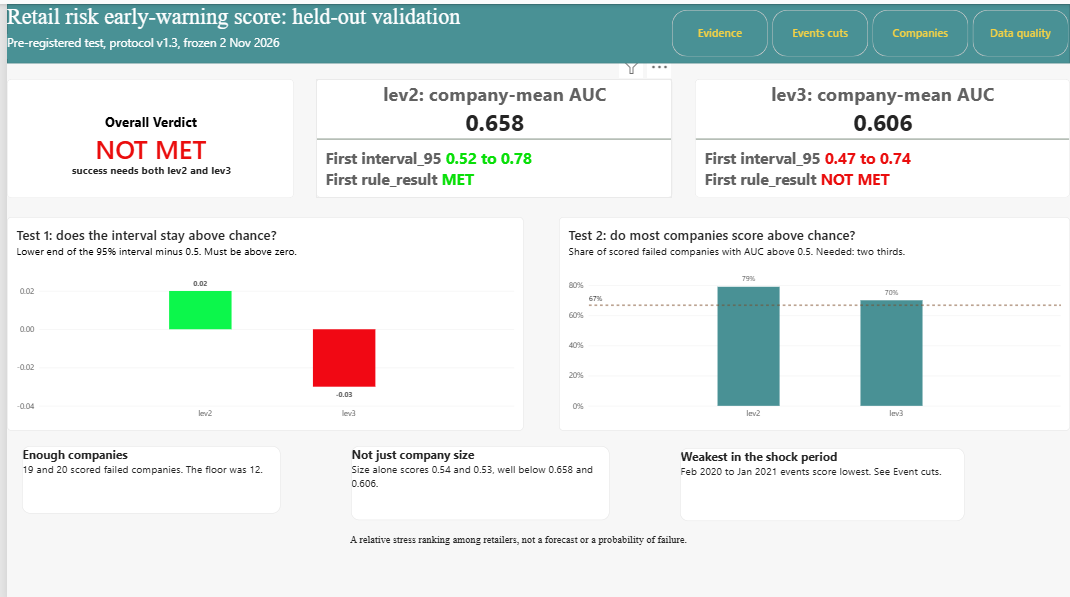

What the dashboard file says about the page in this screenshot:
{"tool":"powerbi","page":{"name":"Verdict","canvas":[1920,1080],"ordinal":0},"visuals":[{"type":"cardVisual","fields":{"Data":["Avg(retail_risk v_verdict.company_mean_auc)"]},"box":[557.4,136.3,644.1,214.7],"z":2000},{"type":"cardVisual","fields":{"Data":["Avg(retail_risk v_verdict.company_mean_auc)"]},"box":[1242.8,136.3,677.2,214.7],"z":3000},{"type":"shape","box":[0,0,1920,107.4],"z":3001},{"type":"textbox","box":[0,53.7,518.2,45.4],"z":3002},{"type":"pageNavigator","box":[1201.5,10.3,718.5,84.6],"z":3003},{"type":"cardVisual","fields":{"Data":["retail_risk v_company_events.Overall short"]},"box":[0,136.3,518,215],"z":3004},{"type":"textbox","box":[117.7,287,313.8,49.5],"z":3005},{"type":"clusteredColumnChart","title":"Test 1: does the interval stay above chance?","fields":{"Y":["retail_risk v_company_events.Low end vs chance"],"Category":["retail_risk v_verdict.lev"]},"box":[0,384,933.2,386.1],"z":3006},{"type":"clusteredColumnChart","title":"Test 2: do most companies score above chance?","fields":{"Y":["retail_risk v_company_events.Share above half"],"Category":["retail_risk v_verdict.lev"]},"box":[997.2,384,922.8,386.1],"z":3007},{"type":"textbox","box":[26.8,799,466.6,121.8],"z":3008},{"type":"textbox","box":[621.4,799,466.6,134.2],"z":3009},{"type":"textbox","box":[1216,801,514.1,132.1],"z":3010},{"type":"textbox","box":[619.4,957.9,623.5,92.9],"z":3011}]}

Visuals, with their boxes in screenshot pixels (x1, y1, x2, y2), scaled from the page's 1920x1080 canvas onto the 1070x597 screenshot:
cardVisual - Avg(retail_risk v_verdict.company_mean_auc): [left=311, top=75, right=670, bottom=194]
cardVisual - Avg(retail_risk v_verdict.company_mean_auc): [left=693, top=75, right=1069, bottom=194]
shape: [left=0, top=0, right=1069, bottom=59]
textbox: [left=0, top=30, right=289, bottom=55]
pageNavigator: [left=670, top=6, right=1069, bottom=52]
cardVisual - retail_risk v_company_events.Overall short: [left=0, top=75, right=289, bottom=194]
textbox: [left=66, top=159, right=240, bottom=186]
"Test 1: does the interval stay above chance?" clusteredColumnChart: [left=0, top=212, right=520, bottom=426]
"Test 2: do most companies score above chance?" clusteredColumnChart: [left=556, top=212, right=1069, bottom=426]
textbox: [left=15, top=442, right=275, bottom=509]
textbox: [left=346, top=442, right=606, bottom=516]
textbox: [left=678, top=443, right=964, bottom=516]
textbox: [left=345, top=530, right=693, bottom=581]
